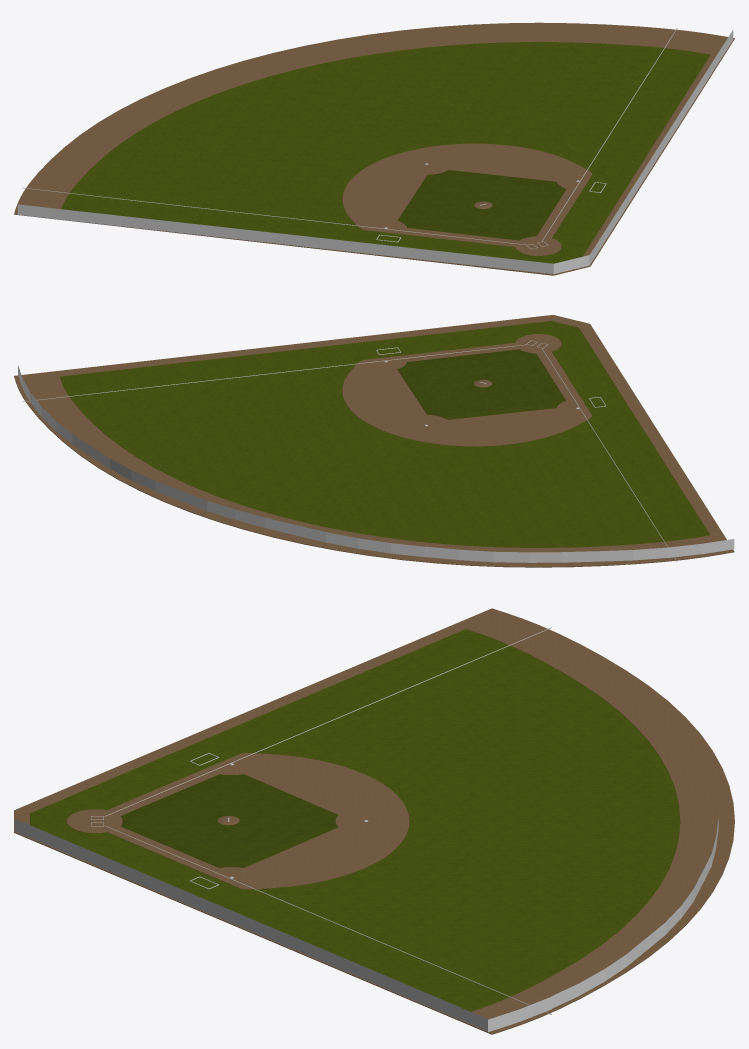
Rendered from field.glb.
3 views of the same model, one above another, from view 1: azimuth 30°, elevation 25°; view 2: azimuth 150°, elevation 25°; view 3: azimuth 270°, elevation 25° (orthographic). The views are drawn at different scales.
Parts seen in each view (by area): view 1: BaseballField; view 2: BaseballField; view 3: BaseballField.
Part boxes in pixels (<box>): BaseballField: <box>14,22,734,275</box>; BaseballField: <box>14,315,734,567</box>; BaseballField: <box>14,608,734,1034</box>.
Bounding box in the file's own units: 144 × 2.84 × 103.
4 materials, 4 textured.
